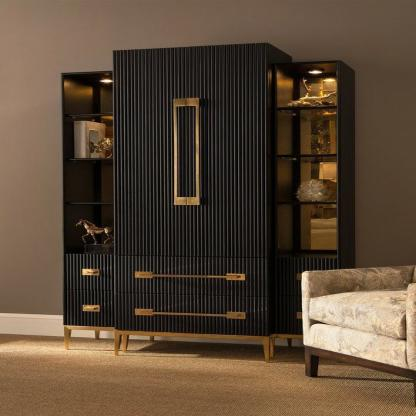Ceramic floor: (61, 43, 356, 363)
